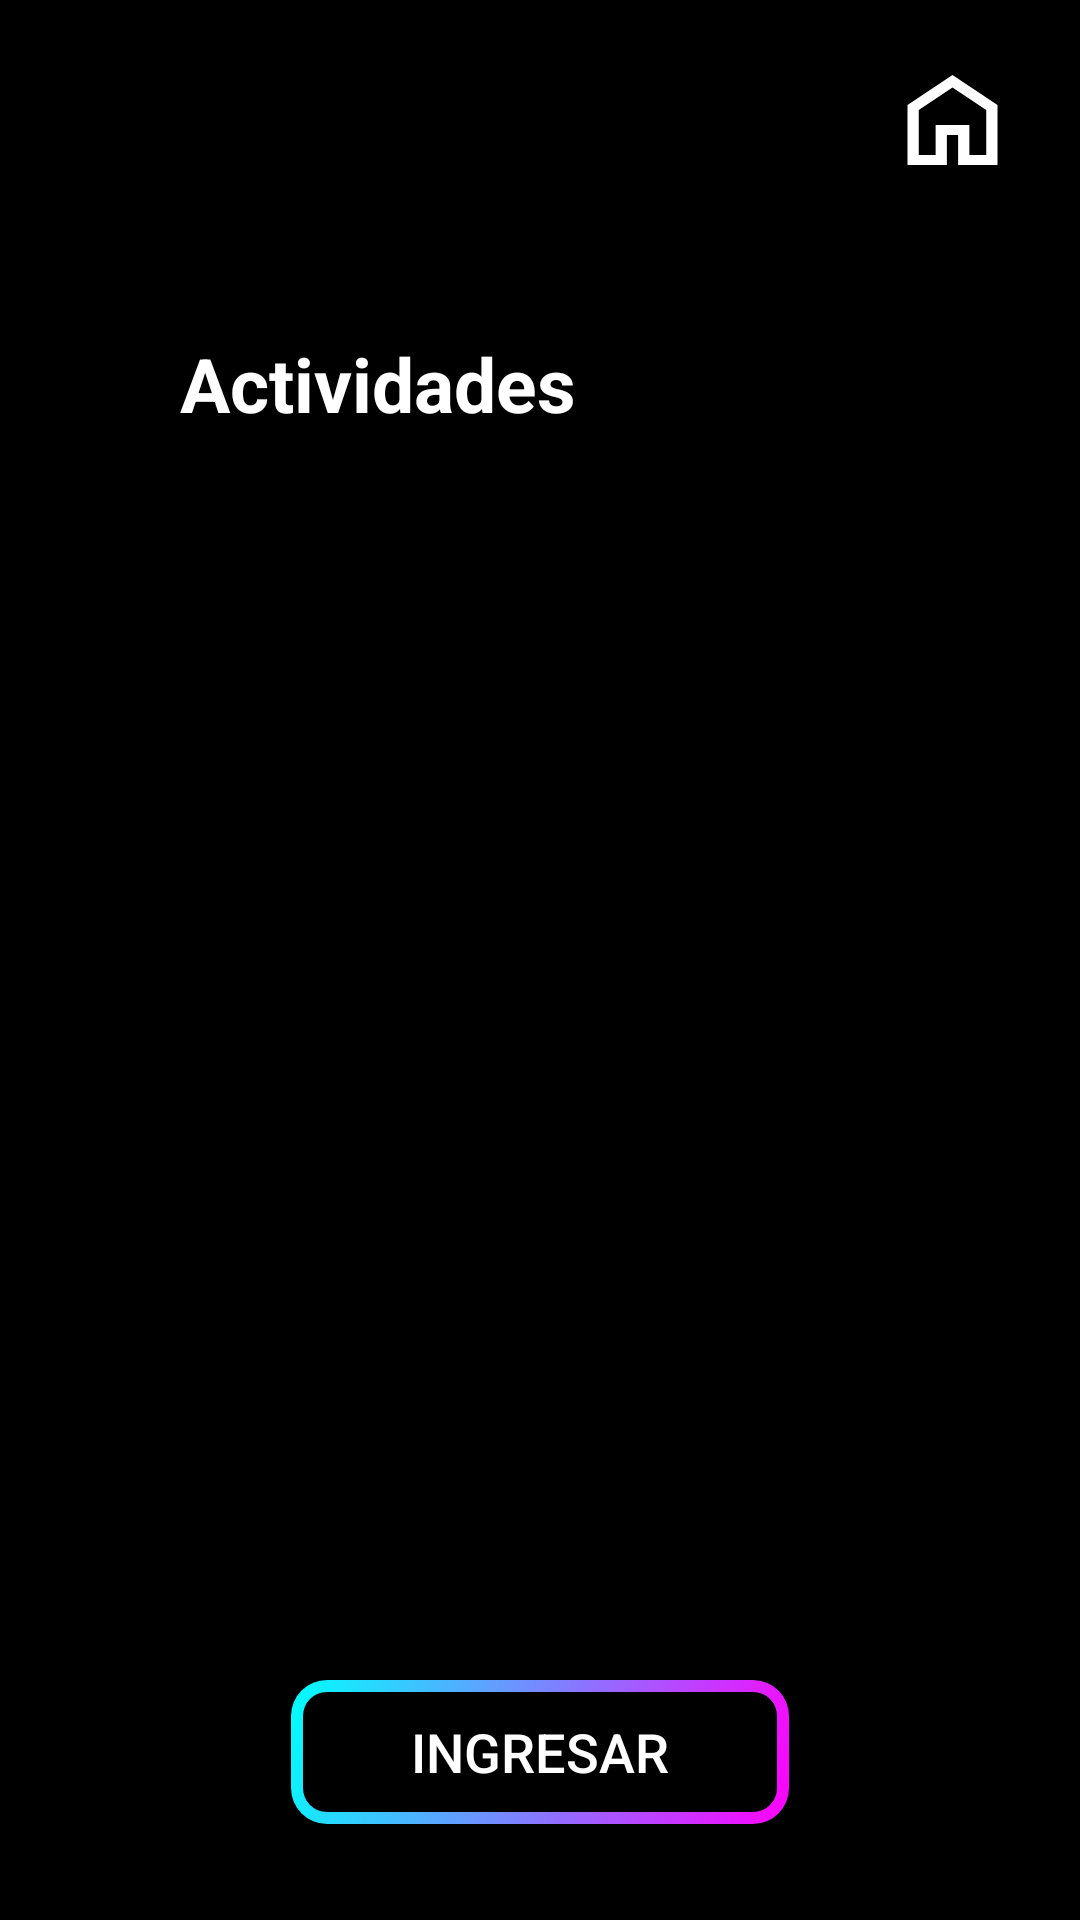

Locate icon controls on the screen. Image size 1080x1920, boxes as Rect(x1, y1, x2, y2).
home: Rect(907, 75, 998, 165)
